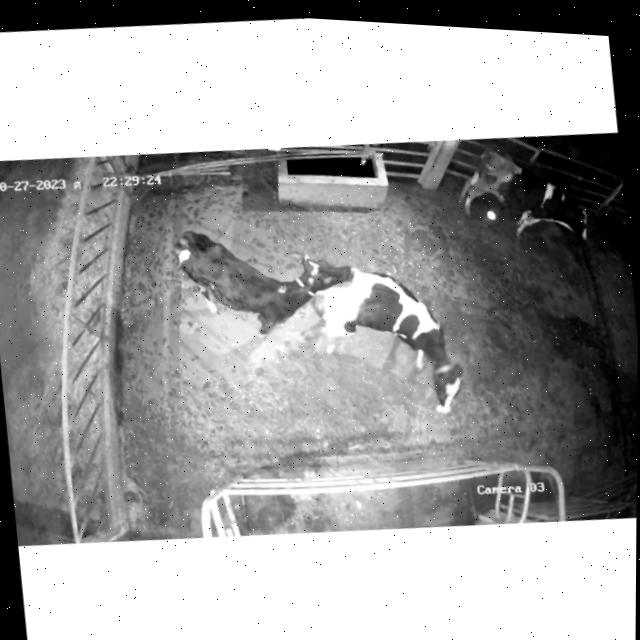propping: (281, 236, 367, 322)
